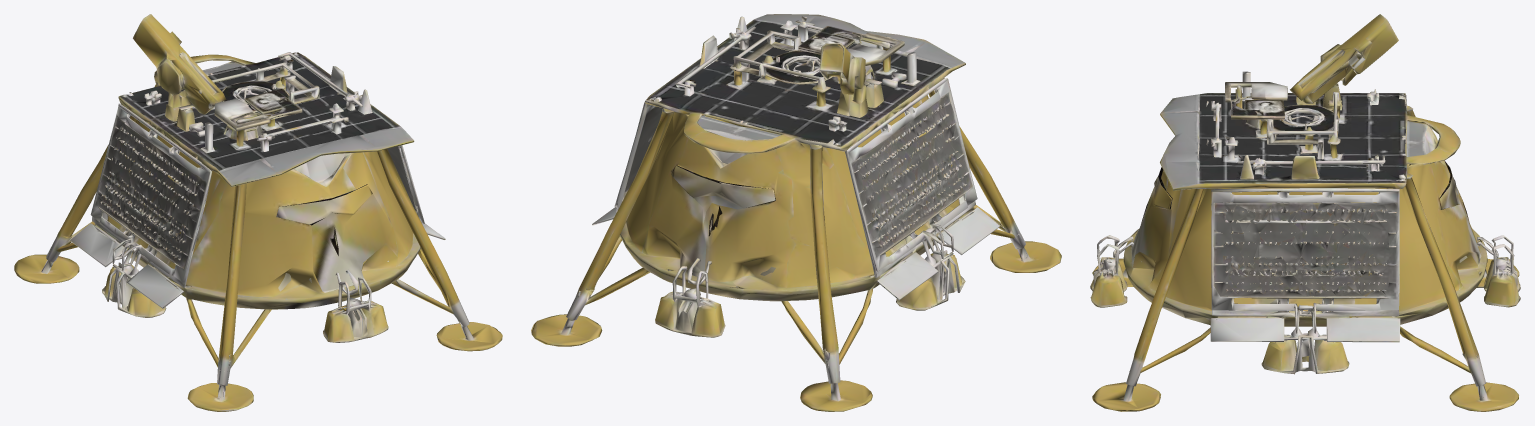
Rendered from blue_ghost.glb.
3 renders of one model, left to right at view 1: azimuth 30°, elevation 25°; view 2: azimuth 150°, elevation 25°; view 3: azimuth 270°, elevation 25°, orthographic. The views are drawn at different scales.
Visible parts, largest first — view 1: world; view 2: world; view 3: world.
Boxes of the visible parts, bbox=[...] form: world: bbox=[14, 14, 502, 411]; world: bbox=[531, 14, 1061, 411]; world: bbox=[1090, 14, 1520, 411].
Bounding box in the file's own units: 0.8378 × 0.7381 × 1.
1 material, 1 textured.
